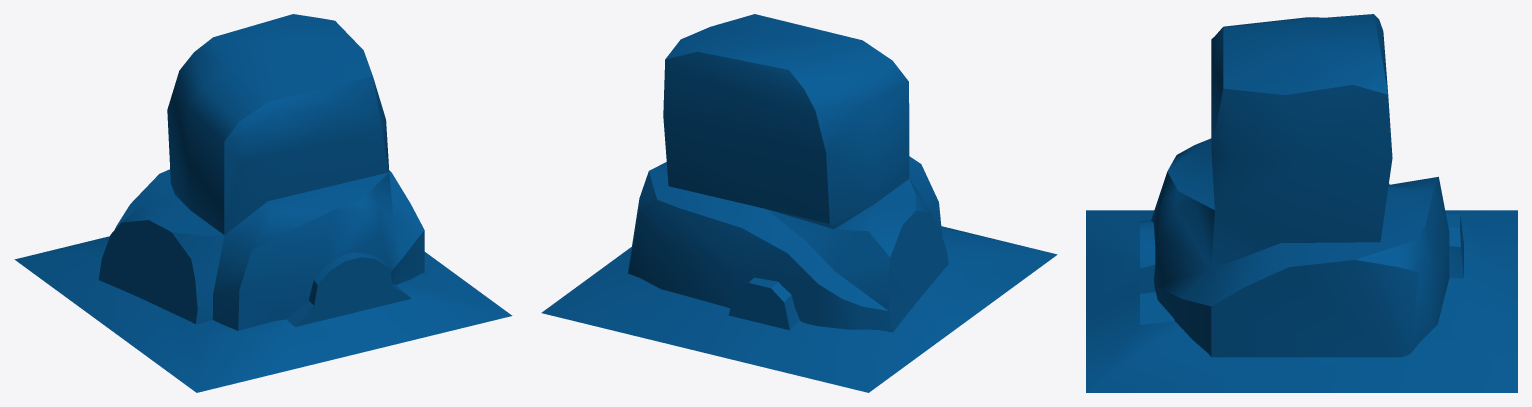
Rendered from FOL_Leaf_01.FBX.
3 renders of one model, left to right at view 1: azimuth 30°, elevation 25°; view 2: azimuth 150°, elevation 25°; view 3: azimuth 270°, elevation 25°, orthographic. The views are drawn at different scales.
Parts seen in each view (by area): view 1: FOL_Leaf_01; view 2: FOL_Leaf_01; view 3: FOL_Leaf_01.
Boxes of the visible parts, x1,y1,x2,y2 form: FOL_Leaf_01: (14,14,512,392); FOL_Leaf_01: (541,14,1057,392); FOL_Leaf_01: (1086,14,1517,392).
Bounding box in the file's own units: 6 × 4.26 × 6.
